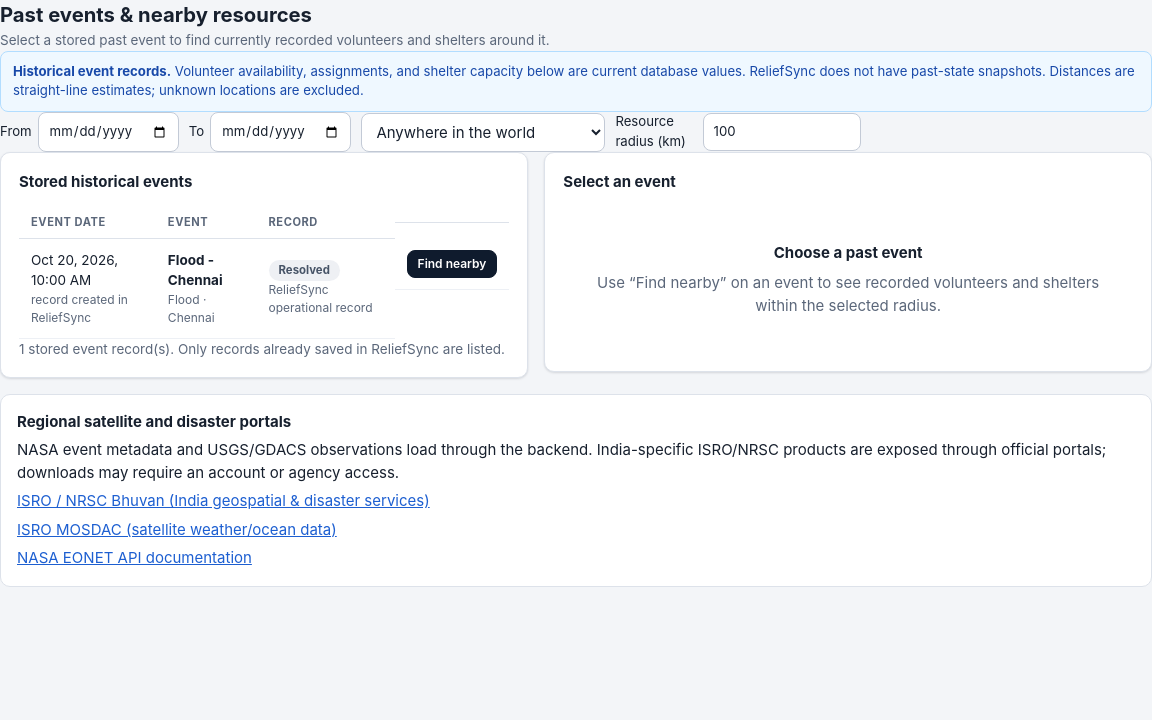
Test case: Past events and resources › loads a real event list and fetches current nearby resource rows after selection
The width and height of the screenshot is (1152, 720).
Click the button "Find nearby" at (452, 264), box [407,250,497,278]
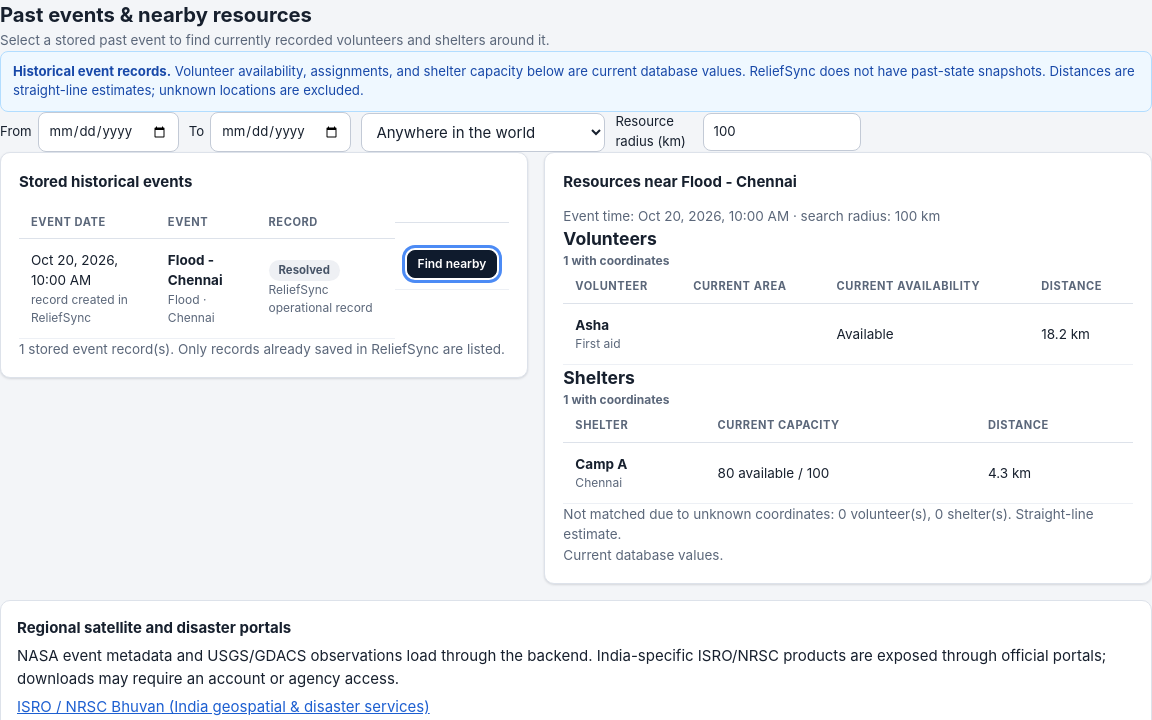
expect the text "current database values" is shown: met, box [13,63,1135,98]
expect the text "Asha" is shown: met, box [575,317,609,333]
expect the text "Camp A" is shown: met, box [575,456,627,472]
